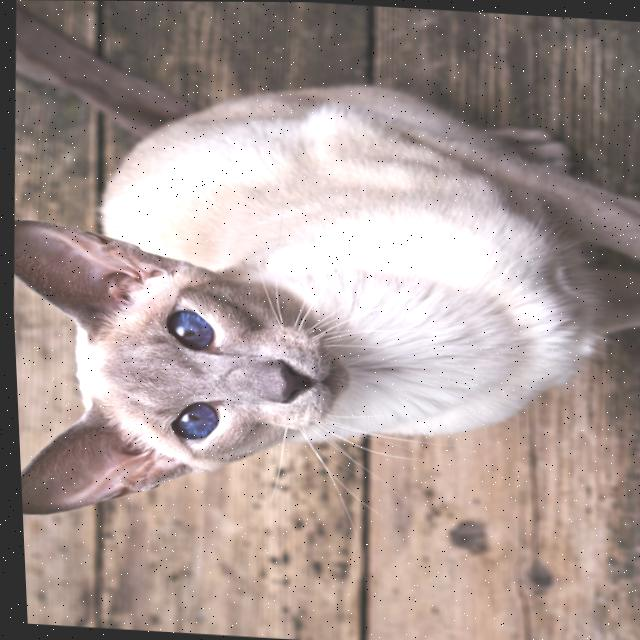Oriental: (2, 55, 640, 555)
